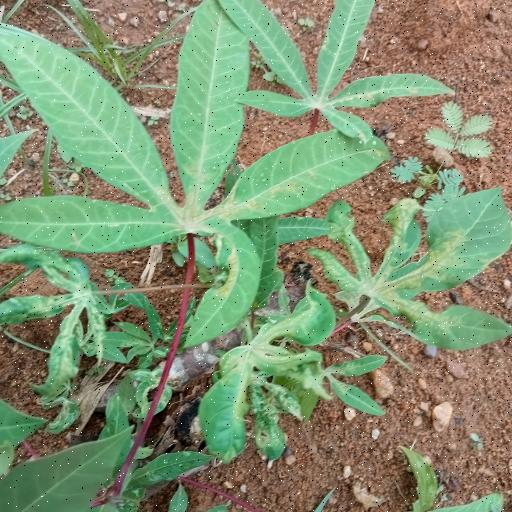Cassava_Mosaic: (7, 10, 372, 308), (219, 0, 446, 135), (319, 195, 512, 351), (0, 252, 117, 418), (206, 310, 335, 459)
